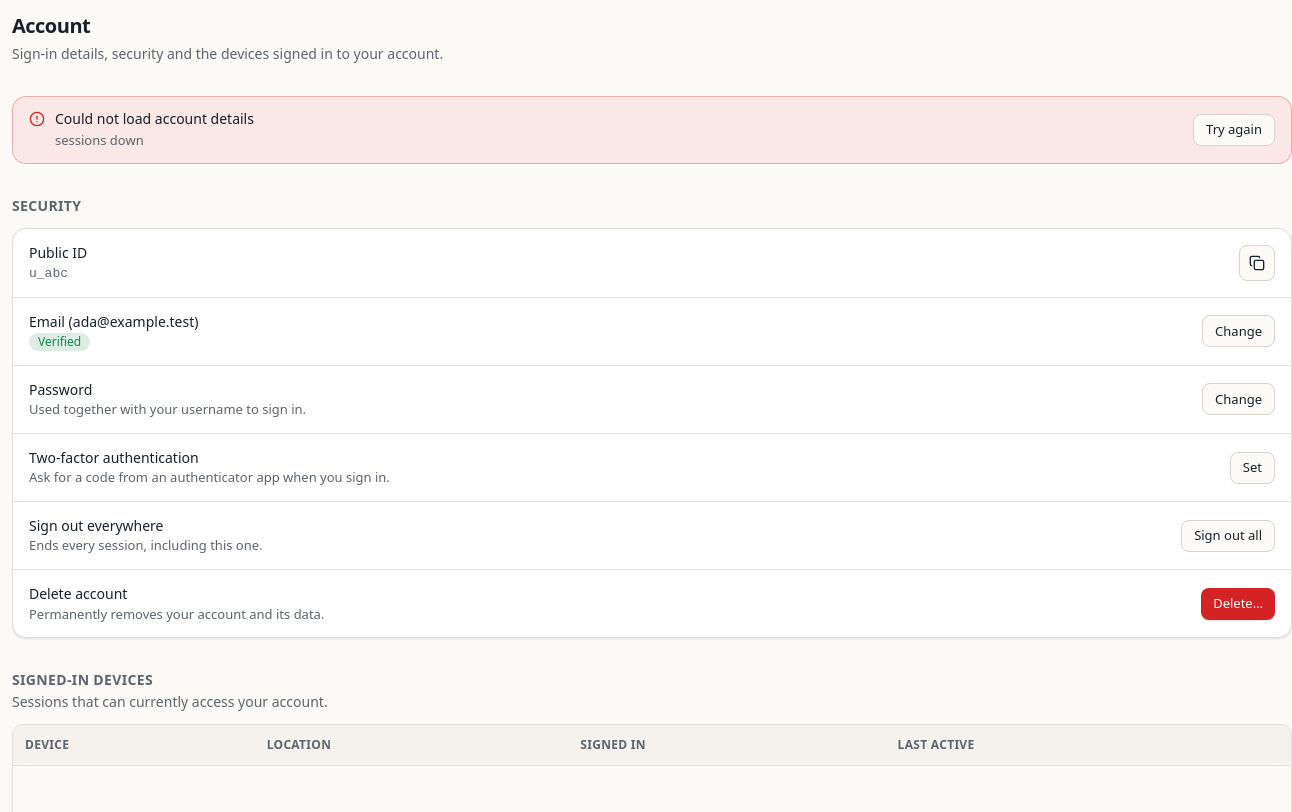
AccountSettingsPage loading › offers a retry when part of the account data fails to load
Expected: the message shows "Could not load account details", 55,109 -> 254,128
Click the button "Try again" at (1234, 130), box 1193,114 -> 1275,146
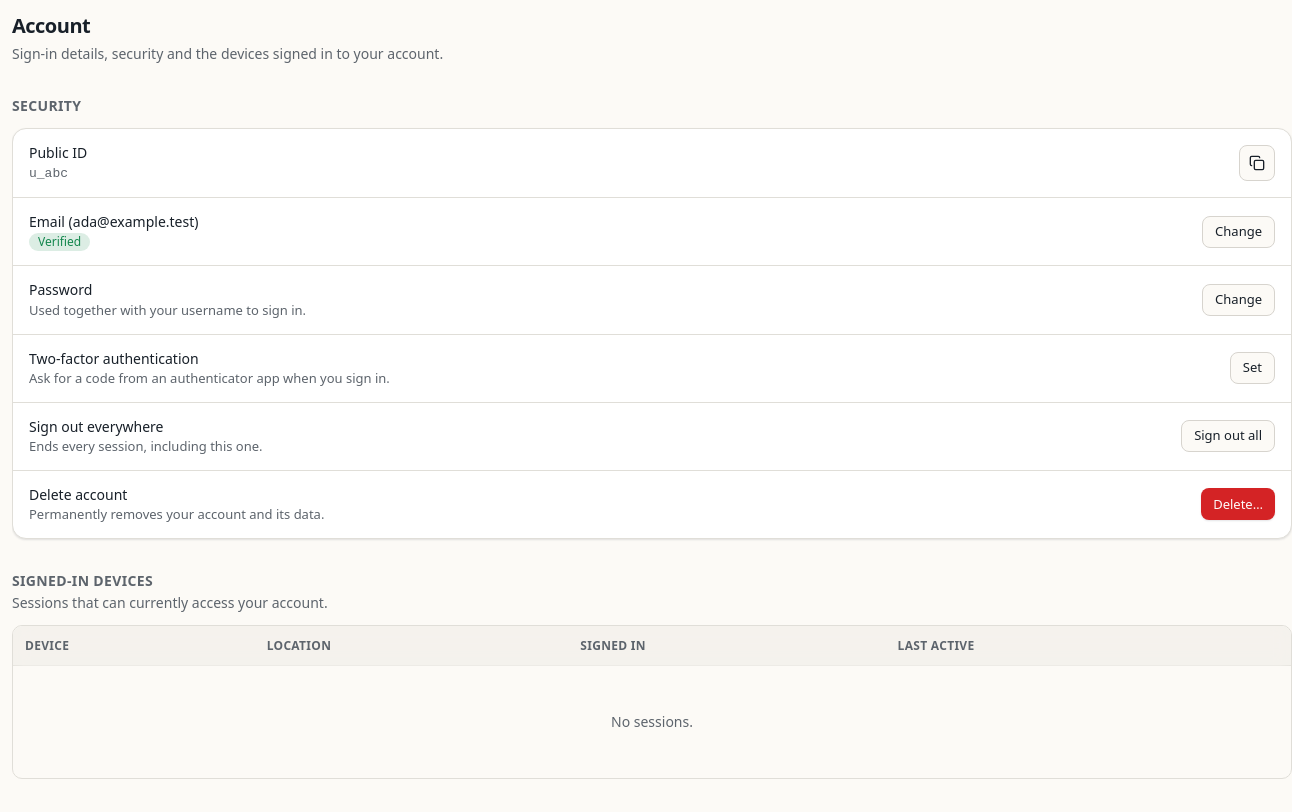
Result: the message "Could not load account details sessions down Try again" is gone
